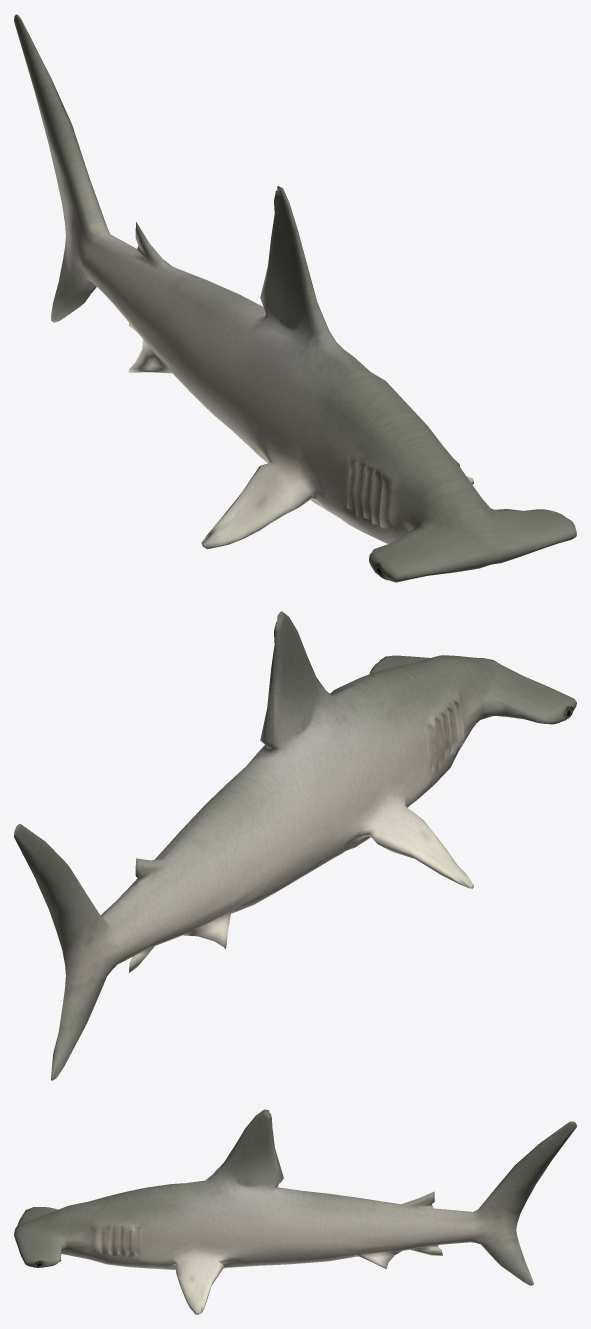
Rendered from hummerhead-shark.glb.
3 renders of one model, top to bottom at view 1: azimuth 30°, elevation 25°; view 2: azimuth 150°, elevation 25°; view 3: azimuth 270°, elevation 25°, orthographic. The views are drawn at different scales.
Parts seen in each view (by area): view 1: HAMRHEAD; view 2: HAMRHEAD; view 3: HAMRHEAD.
Part boxes in pixels (x1=…): HAMRHEAD: x1=14, y1=14, x2=576, y2=582; HAMRHEAD: x1=14, y1=611, x2=576, y2=1080; HAMRHEAD: x1=14, y1=1109, x2=576, y2=1314.
Bounding box in the file's own units: 0.8224 × 0.878 × 2.54.
1 material, 1 textured.
